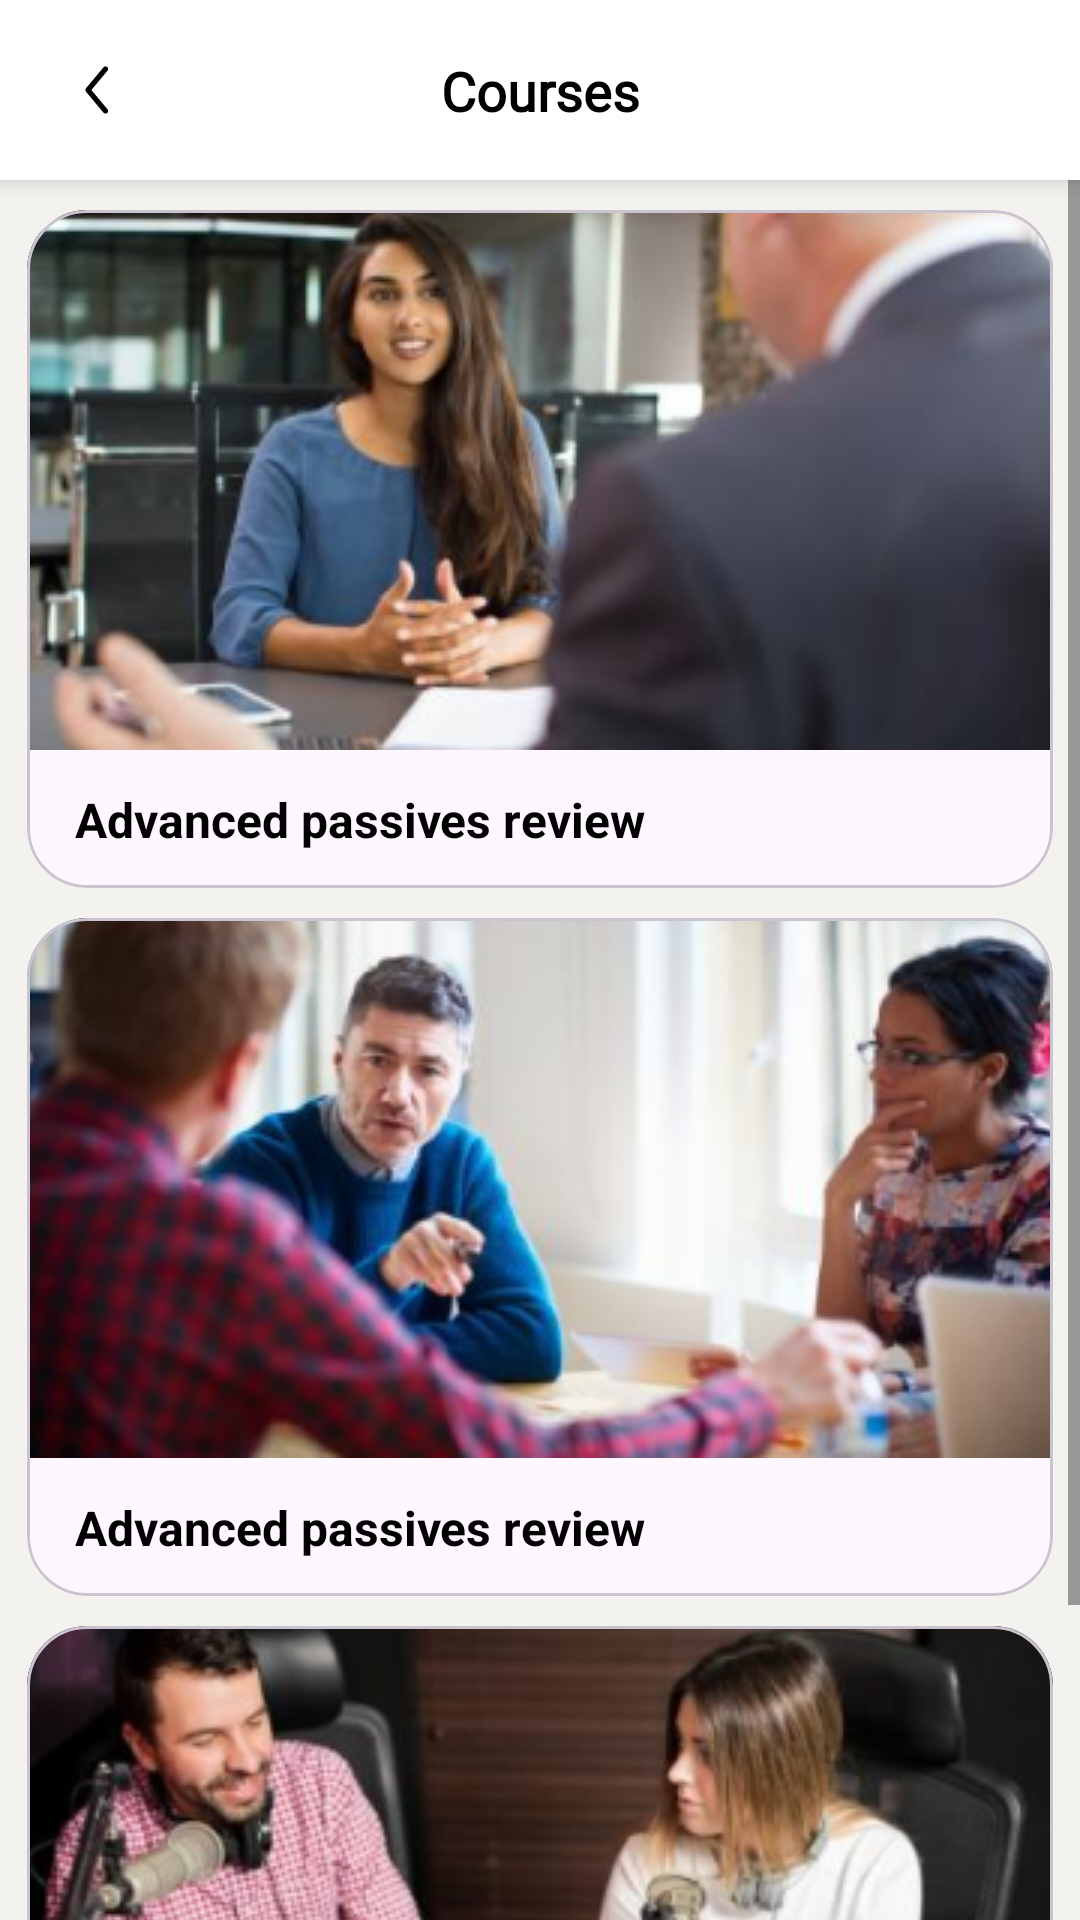

Icon bounding boxes for this 1080x1920 phone screenshot, format (x1, y1, x2, y2):
back: (85, 66, 108, 114)
